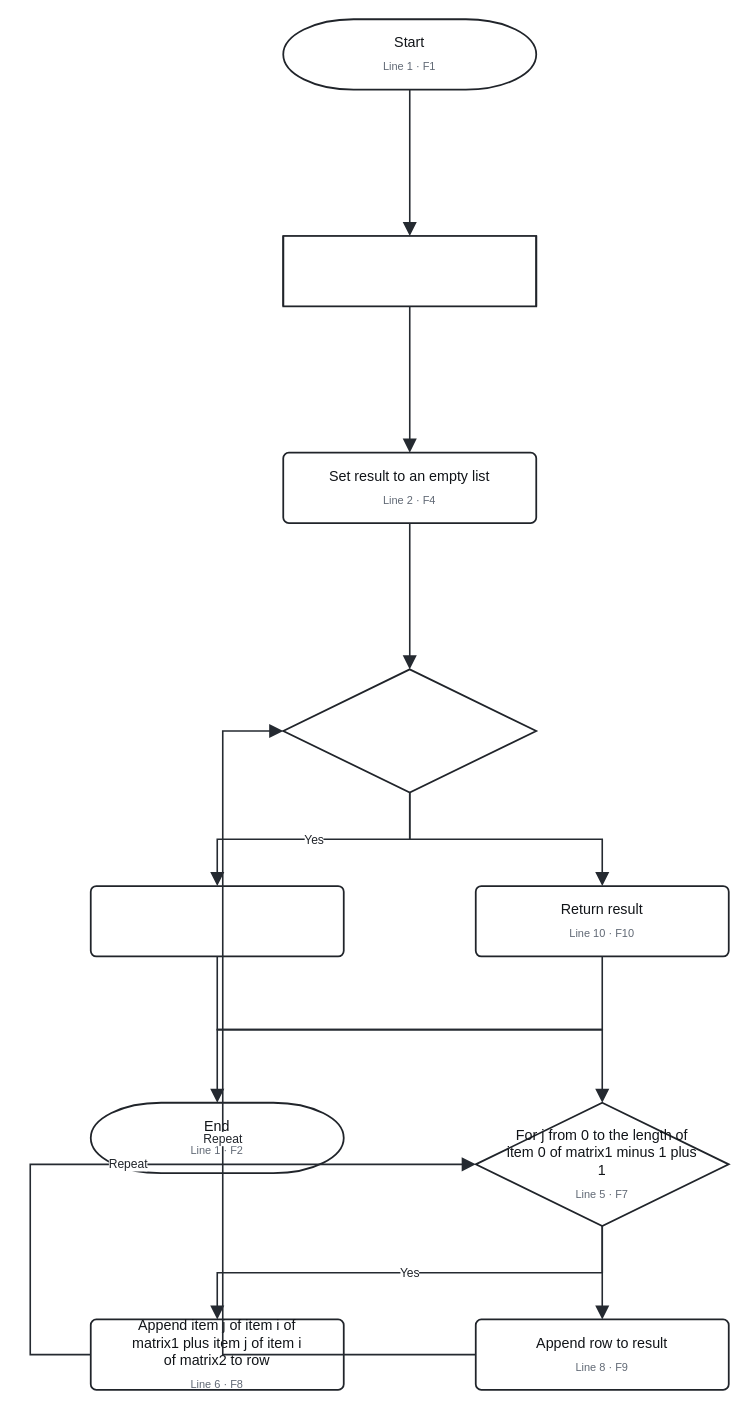
The diagram is 749 pixels wide and 1412 high, and some of its shapes have lost their labels. The shapes that lost their labels are listed below. From the top down, each one's centre as x and y in pixels, then its label:
point 409,271: Run function ADD_MATRICES with matrix1, matrix2 Line 1 · F3
point 409,730: For i from 0 to the length of matrix1 minus 1 plus 1 Line 3 · F5
point 216,921: Set row to an empty list Line 4 · F6
